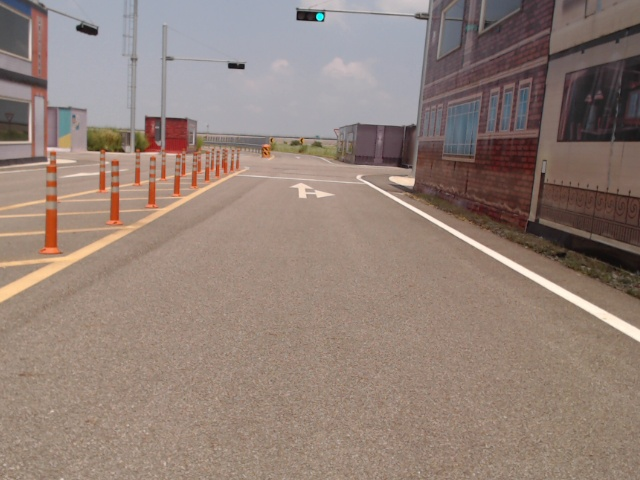green_3: (295, 10, 325, 22)
